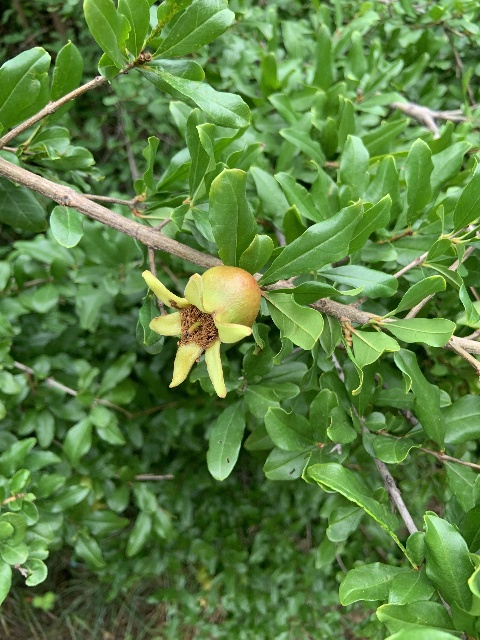early-fruit: (143, 264, 260, 396)
